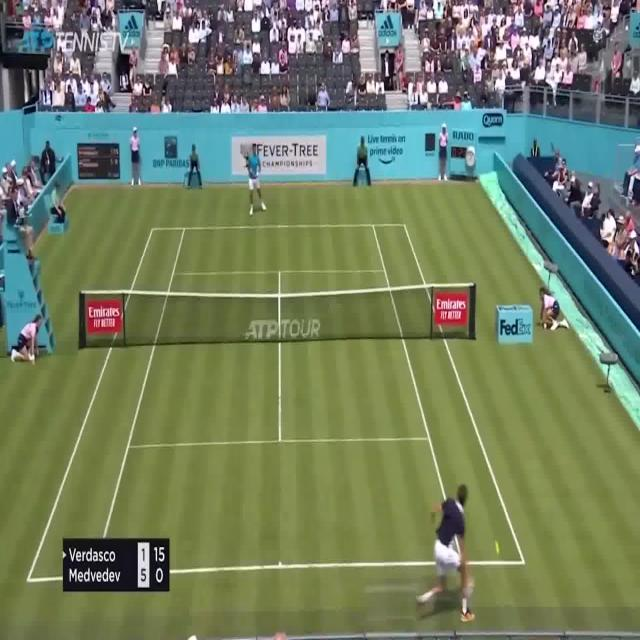bottom-dead-zone: (94, 438, 463, 574)
court: (26, 223, 526, 582)
left-doubles-alley: (28, 228, 185, 579)
left-service-box: (128, 273, 280, 446)
net: (78, 280, 476, 353)
right-doubles-alley: (371, 222, 526, 565)
right-service-box: (279, 272, 431, 441)
top-dead-zone: (172, 226, 385, 274)
